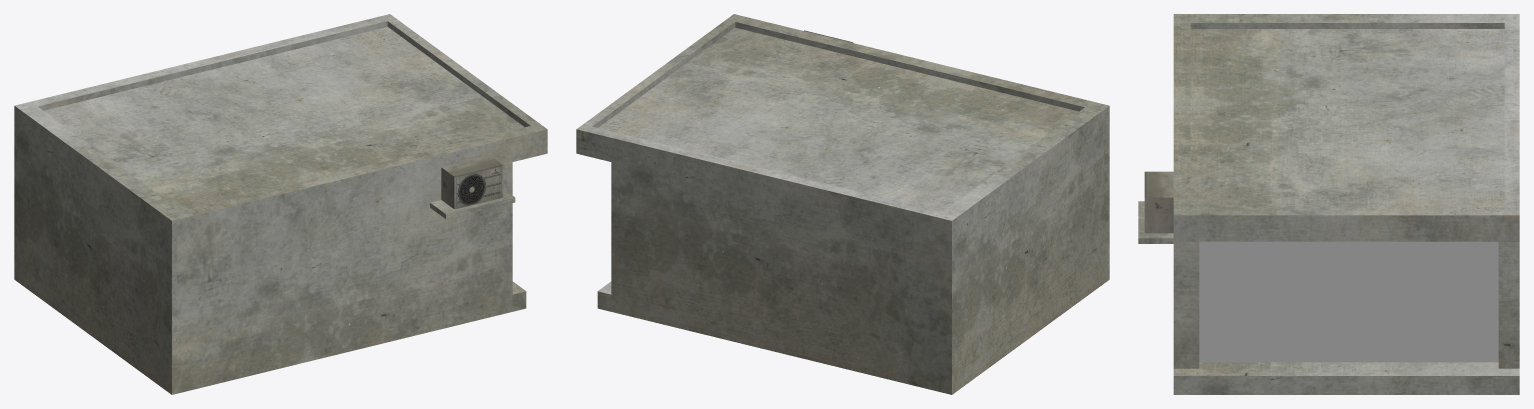
3 renders of one model, left to right at view 1: azimuth 30°, elevation 25°; view 2: azimuth 150°, elevation 25°; view 3: azimuth 270°, elevation 25°, orthographic. The views are drawn at different scales.
Visible parts, largest first — view 1: Model; view 2: Model; view 3: Model.
Part boxes in pixels (bbox=[...]): Model: bbox=[14, 14, 547, 394]; Model: bbox=[576, 14, 1109, 394]; Model: bbox=[1138, 14, 1519, 394].
Bounding box in the file's own units: 194 × 85.69 × 155.
